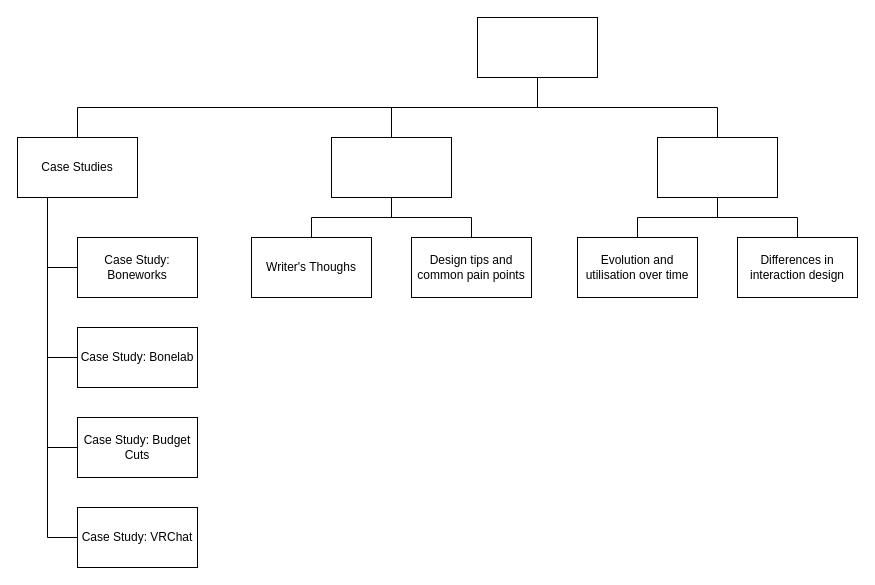
Some shapes in this 875 by 585 pixel diagram are drawn without their labels. Each missing label, with the centre of its shape:
Hardware: the point at 717,167
Homepage: the point at 537,47
VR Interaction Design: the point at 391,167
